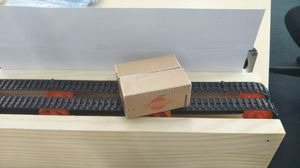box1: (113, 53, 191, 118)
